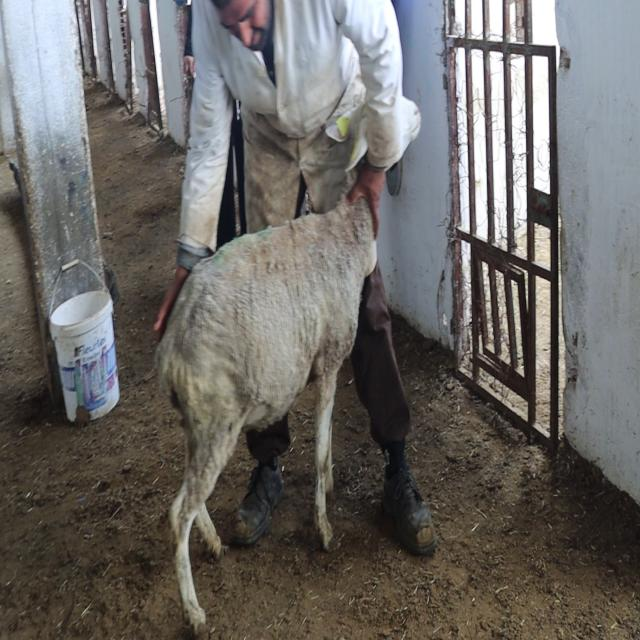Score_1: (156, 102, 377, 631)
